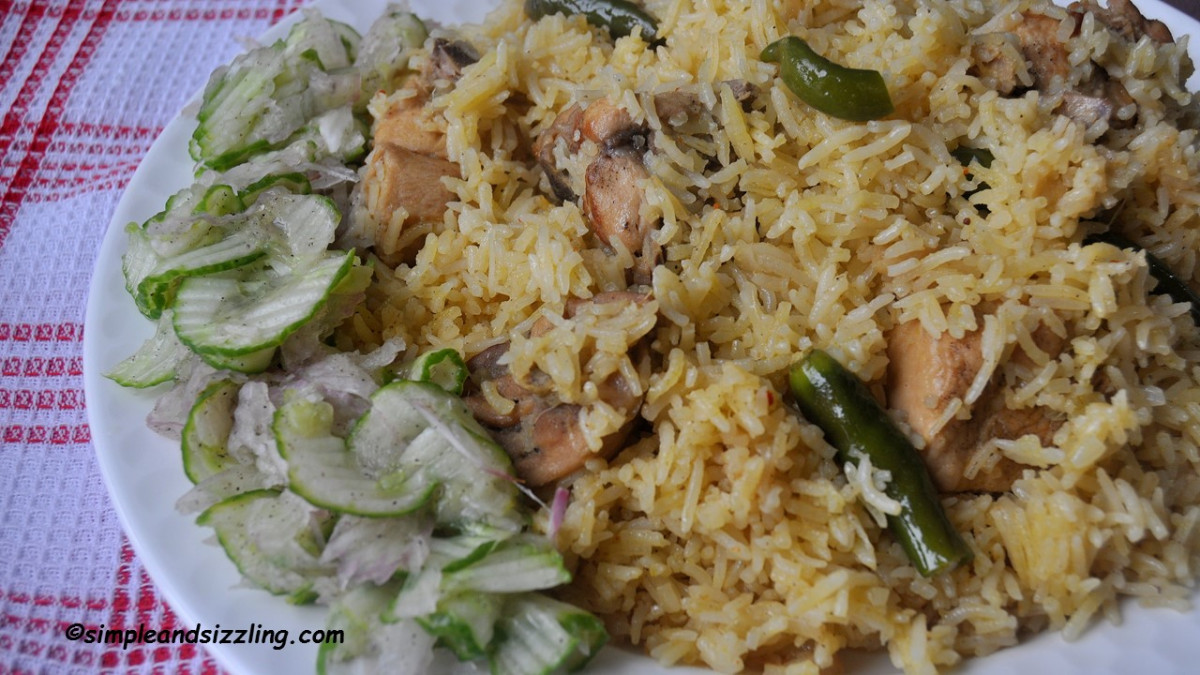tehari: (373, 2, 1200, 672)
